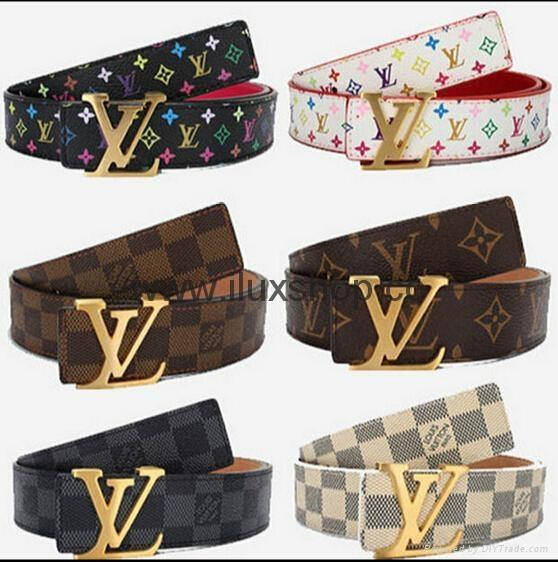LOUIS-VUITTON: (348, 272, 450, 371), (371, 463, 467, 559), (73, 298, 170, 389), (73, 466, 165, 561), (80, 91, 166, 177), (359, 89, 437, 172), (374, 229, 422, 282), (373, 60, 398, 89), (441, 42, 467, 69), (189, 47, 212, 77), (176, 123, 201, 149), (118, 68, 140, 97), (446, 117, 470, 142), (35, 118, 55, 144), (313, 110, 331, 134), (241, 119, 257, 143), (511, 115, 527, 138)
